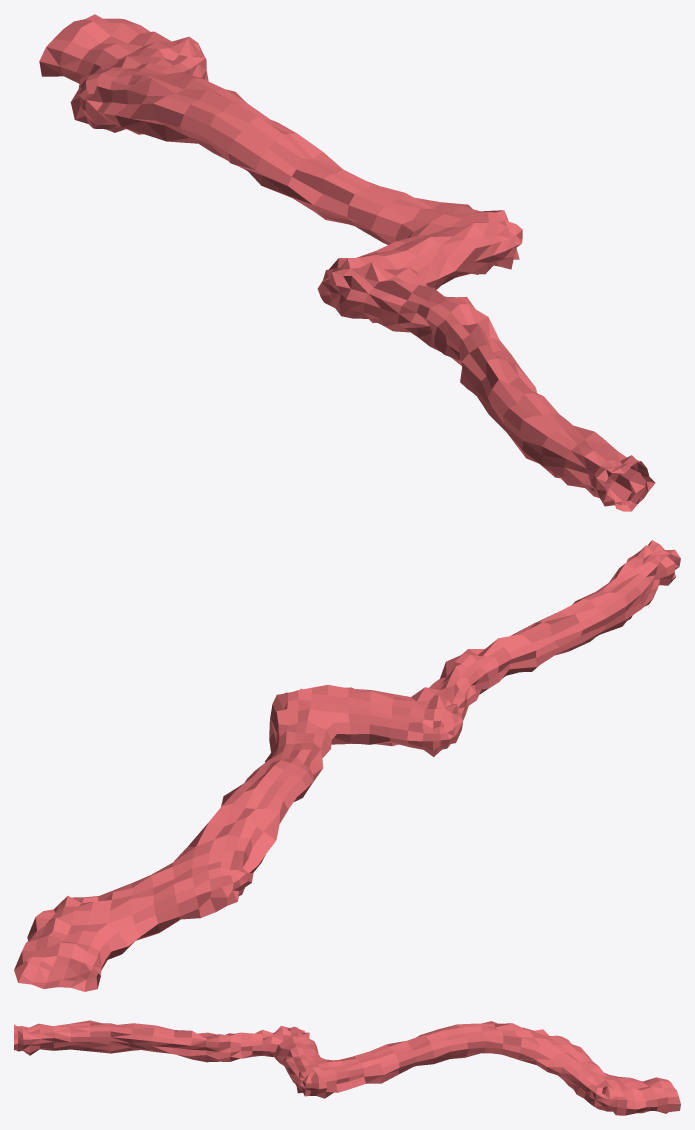
The model's file is Cave_Hard.fbx.
3 renders of one model, top to bottom at view 1: azimuth 30°, elevation 25°; view 2: azimuth 150°, elevation 25°; view 3: azimuth 270°, elevation 25°, orthographic. The views are drawn at different scales.
Parts seen in each view (by area): view 1: Cubo; view 2: Cubo; view 3: Cubo.
Part boxes in pixels (x1=…): Cubo: x1=39, y1=14, x2=655, y2=511; Cubo: x1=14, y1=540, x2=680, y2=991; Cubo: x1=14, y1=1020, x2=680, y2=1115.
Size of the model in its own units: 872 by 4615 by 514.
